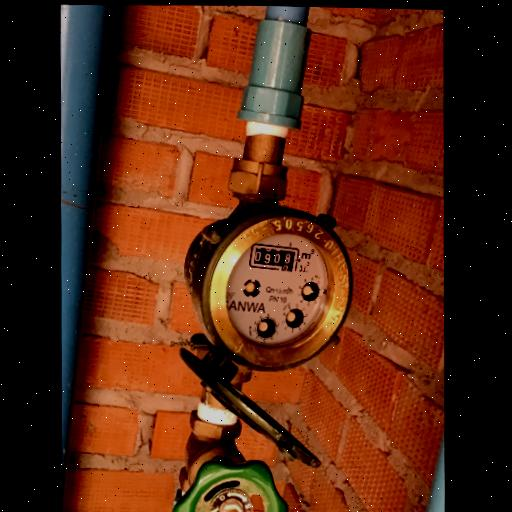0: (270, 249, 284, 267), (254, 247, 265, 265)
8: (281, 250, 295, 272)
9: (261, 247, 273, 266)
border_water_meter_number: (247, 242, 300, 274)
